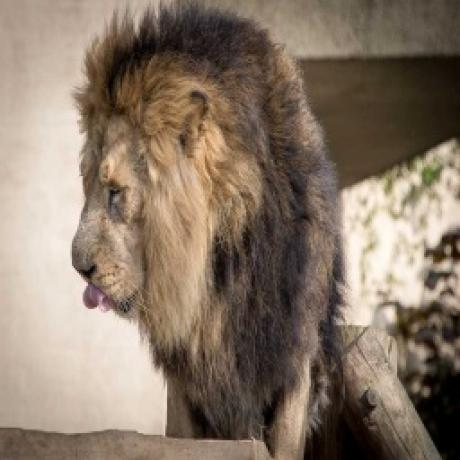Lion: (68, 0, 349, 460)
